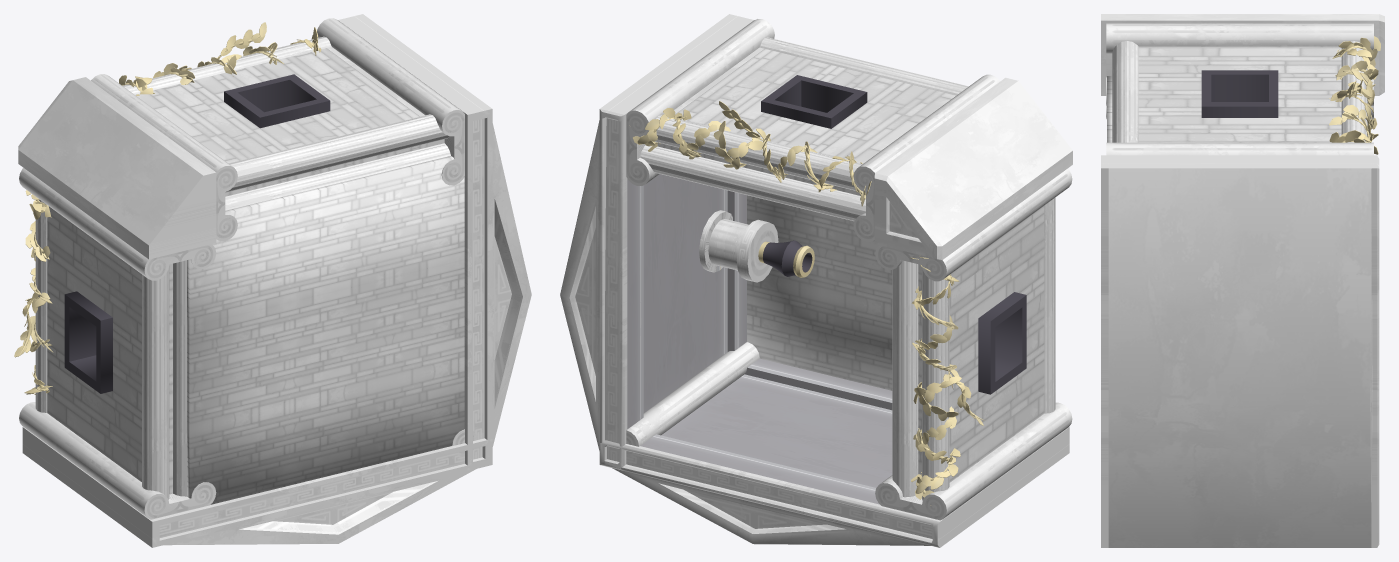
The model's file is LeftBorderRoom.fbx.
3 renders of one model, left to right at view 1: azimuth 30°, elevation 25°; view 2: azimuth 150°, elevation 25°; view 3: azimuth 270°, elevation 25°, orthographic. The views are drawn at different scales.
Visible parts, largest first — view 1: Plane.006; view 2: Plane.006; view 3: Plane.006.
Boxes of the visible parts, <box> form: Plane.006: <box>14,14,531,547</box>; Plane.006: <box>560,14,1072,547</box>; Plane.006: <box>1101,14,1384,547</box>.
Size of the model in its own units: 5745 by 5736 by 3240.
2 materials, 2 textured.
